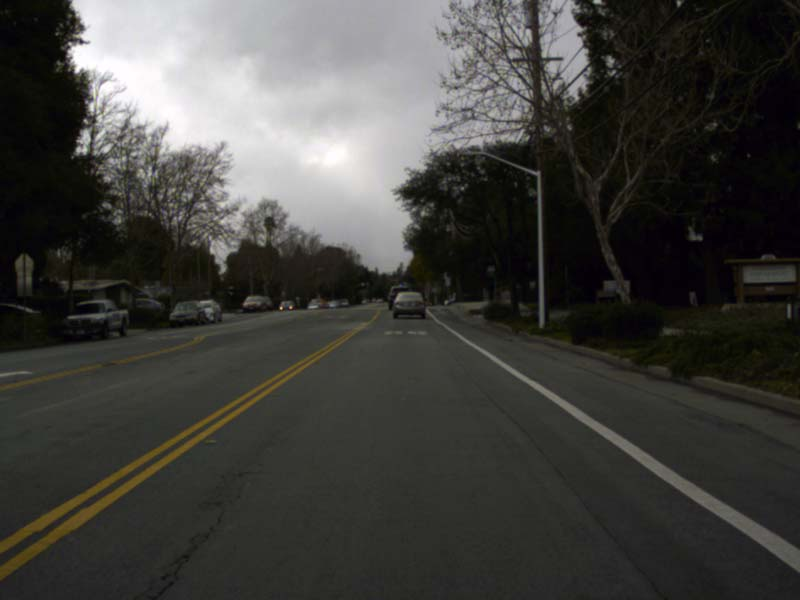Green: (398, 282, 400, 288)
